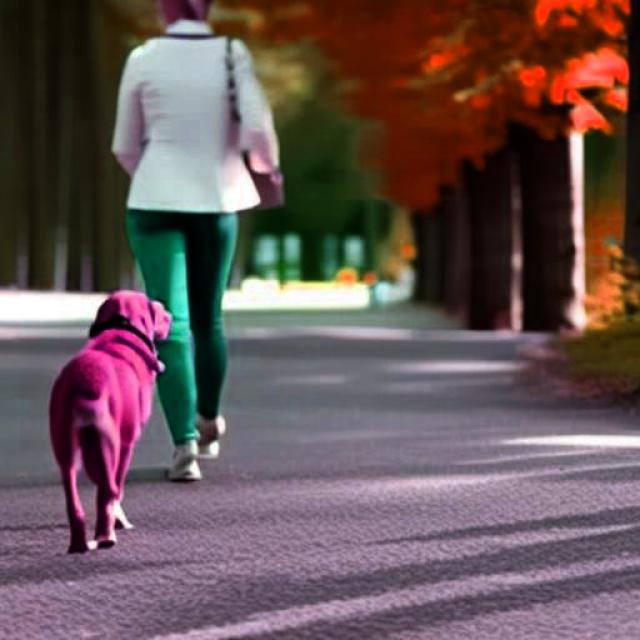Unleashed_Dog: (48, 212, 236, 550)
